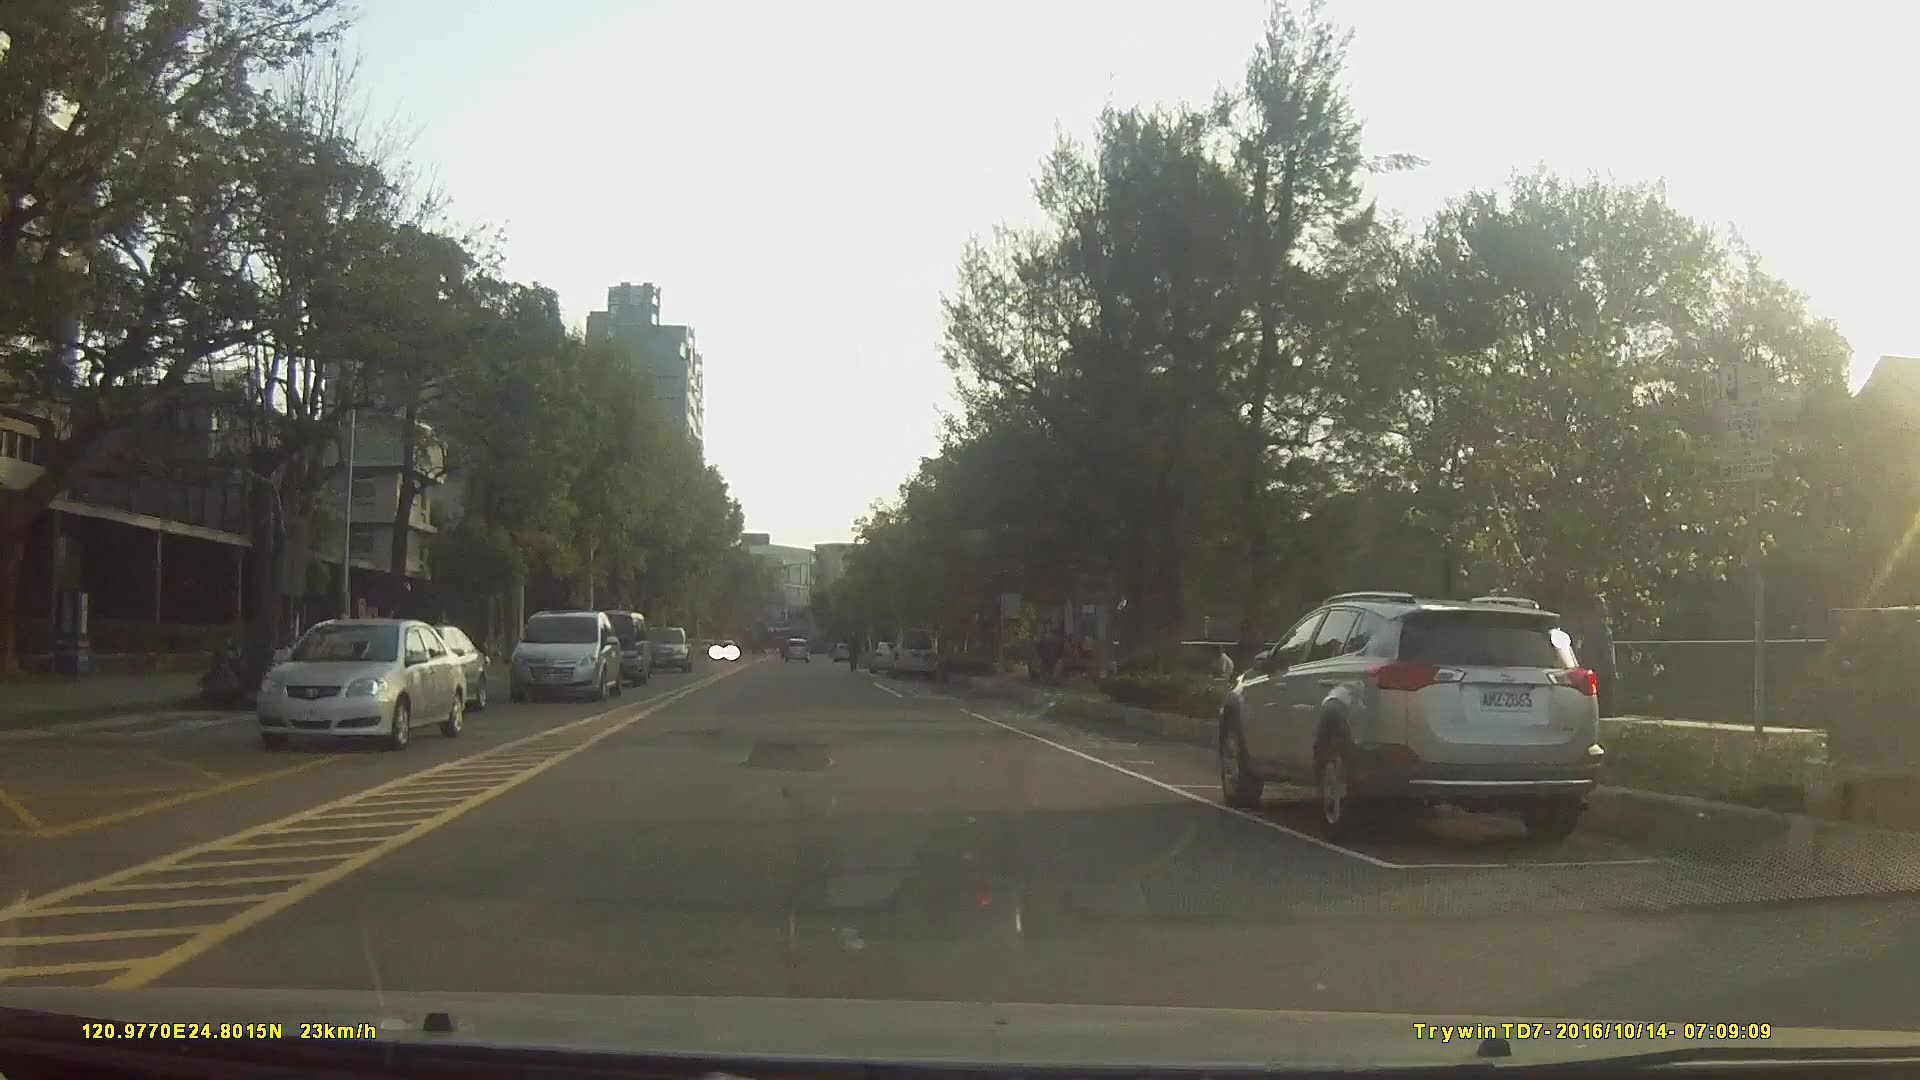vehicle: (1221, 592, 1601, 839), (255, 618, 465, 750), (509, 611, 618, 703), (884, 622, 940, 679), (637, 622, 690, 670), (869, 640, 905, 673), (782, 634, 808, 661)
